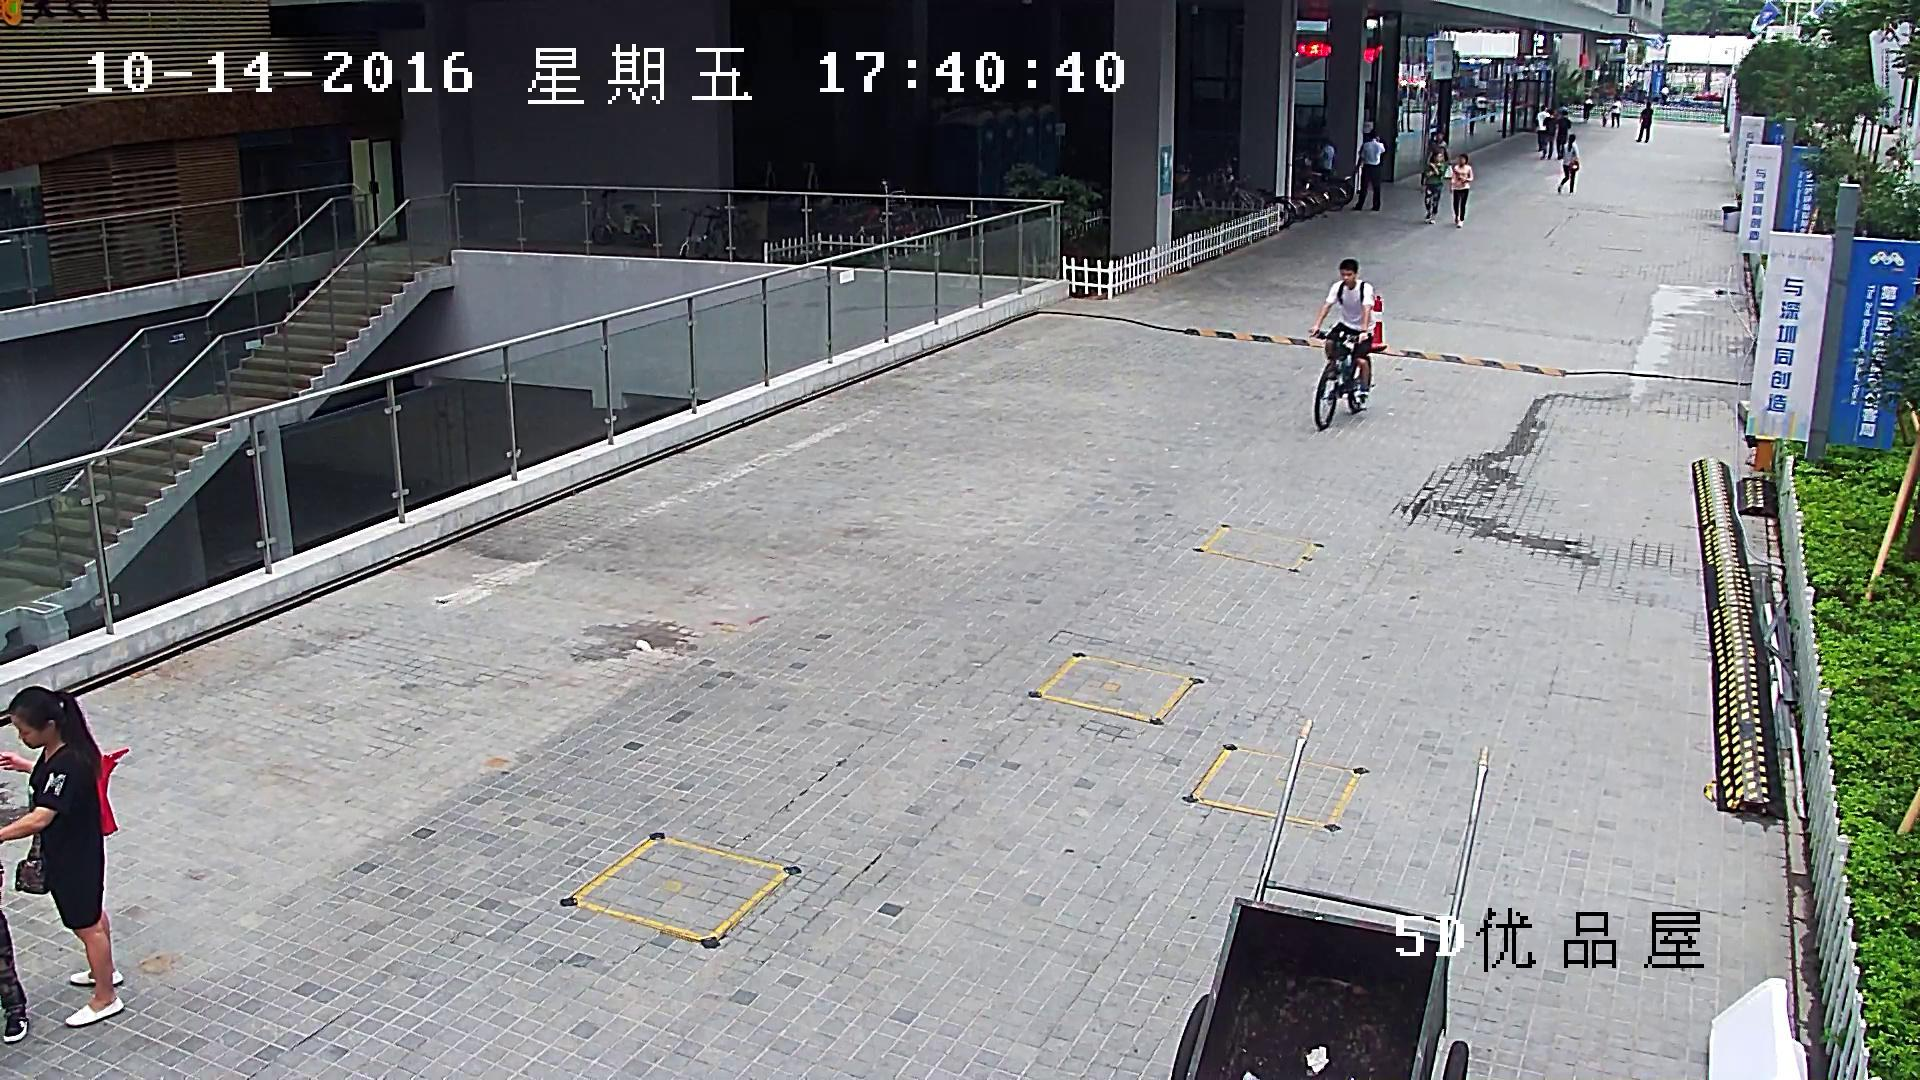person: (0, 686, 128, 1028), (1307, 259, 1375, 429), (1309, 259, 1374, 396), (1351, 131, 1385, 210), (1420, 151, 1448, 223), (1450, 154, 1473, 227), (1557, 133, 1579, 193), (1540, 111, 1556, 160), (1635, 102, 1653, 142), (1426, 132, 1448, 163), (1556, 111, 1571, 159), (1536, 105, 1550, 151), (1319, 144, 1334, 171), (1469, 99, 1477, 135), (1611, 99, 1621, 127), (1475, 95, 1486, 115), (1583, 98, 1592, 119)
